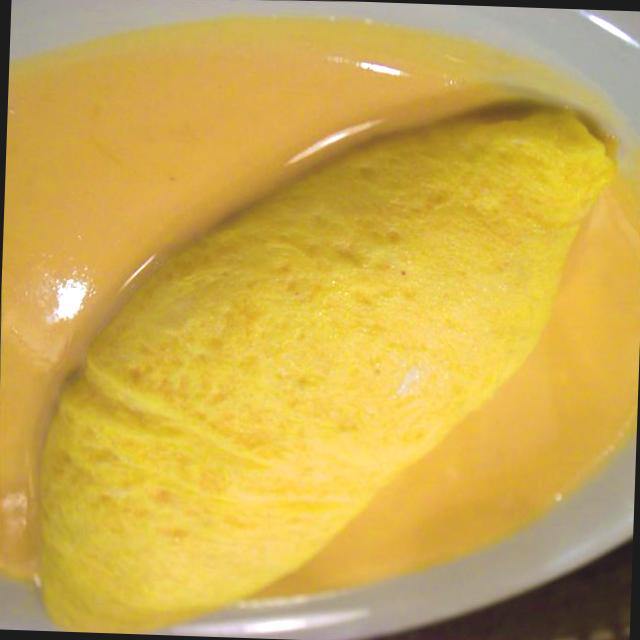Omelet: (13, 78, 631, 640)
